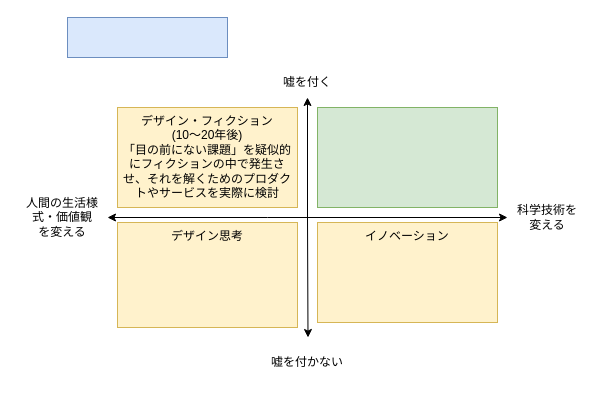
This 604x395 diagram has some shape labels left out. Each missing label, with the centre of its shape:
SF思考 (10～50年後) 未来の言葉やキャラクターからありたい社会を考え、バックキャストで新産業や、開発技術や制度をひもといていく手法: the point at 407,157
虚構と糸 ～SFとDF～: the point at 147,37
